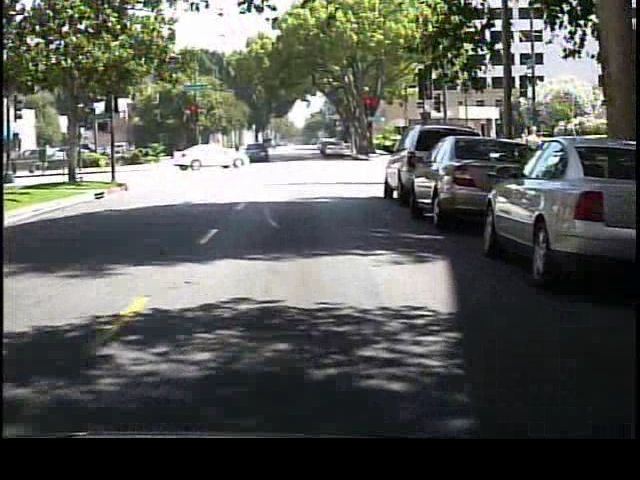person: (252, 141, 269, 170)
